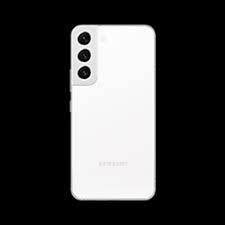Smartphone: (71, 28, 156, 200)
